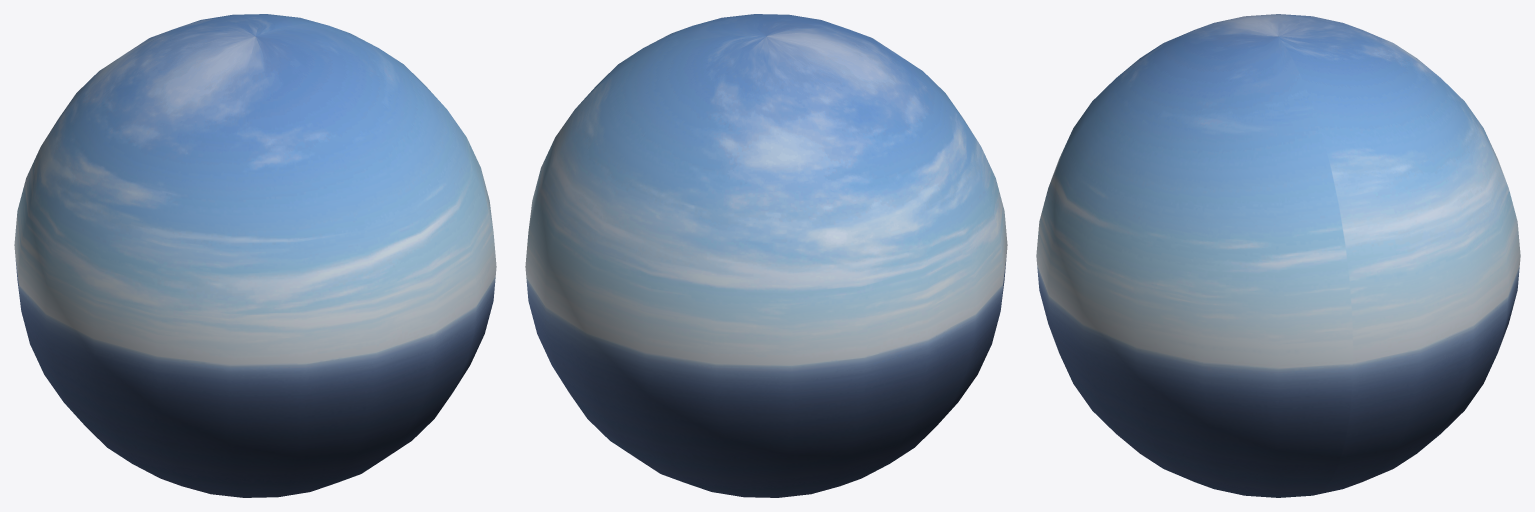
File: Skybox2.obj
The picture shows the model from 3 angles, left to right: view 1: azimuth 30°, elevation 25°; view 2: azimuth 150°, elevation 25°; view 3: azimuth 270°, elevation 25°; orthographic projection.
Visible parts, largest first — view 1: uploads_files_3767630_skybox; view 2: uploads_files_3767630_skybox; view 3: uploads_files_3767630_skybox.
Boxes of the visible parts, x1,y1,x2,y2 form: uploads_files_3767630_skybox: (14,14,496,497); uploads_files_3767630_skybox: (525,14,1007,497); uploads_files_3767630_skybox: (1036,14,1520,497).
Bounding box in the file's own units: 43.64 × 43.64 × 43.64.
Materials: 1 (1 with a texture image).
